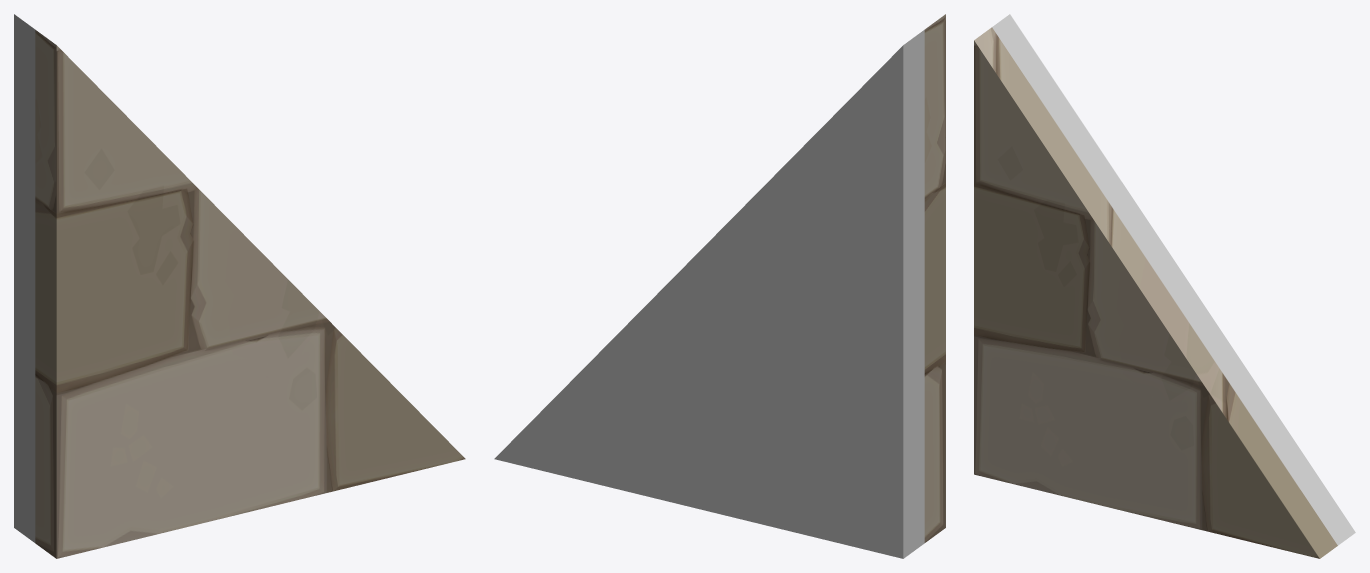
The model's file is SM_Bld_Wall_End_Straight_Small_01.fbx.
The picture shows the model from 3 angles, left to right: view 1: azimuth 30°, elevation 25°; view 2: azimuth 150°, elevation 25°; view 3: azimuth 330°, elevation 25°; orthographic projection. The views are drawn at different scales.
Parts seen in each view (by area): view 1: SM_Bld_Wall_End_Straight_Small_01; view 2: SM_Bld_Wall_End_Straight_Small_01; view 3: SM_Bld_Wall_End_Straight_Small_01.
Part boxes in pixels (left/top/right/bottom): SM_Bld_Wall_End_Straight_Small_01: left=14, top=14, right=465, bottom=558; SM_Bld_Wall_End_Straight_Small_01: left=494, top=14, right=945, bottom=558; SM_Bld_Wall_End_Straight_Small_01: left=974, top=14, right=1355, bottom=558.
Bounding box in the file's own units: 125 × 150 × 22.5.
